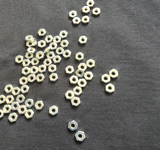nut: (76, 132, 86, 142), (25, 99, 35, 109), (69, 121, 78, 132), (9, 113, 18, 123), (50, 106, 59, 116), (35, 101, 45, 110), (16, 95, 26, 104), (12, 87, 21, 97), (72, 97, 81, 107), (65, 91, 75, 100), (73, 87, 83, 96), (106, 84, 115, 94), (102, 74, 111, 84), (110, 69, 119, 79), (78, 63, 88, 72), (3, 105, 12, 114), (11, 102, 20, 111), (18, 106, 27, 115), (25, 110, 34, 119), (21, 85, 30, 94), (78, 79, 87, 88), (70, 76, 79, 85), (76, 69, 85, 78), (36, 74, 45, 83), (50, 73, 59, 82), (38, 65, 47, 74), (36, 51, 45, 60), (5, 96, 15, 104), (84, 72, 94, 80), (5, 85, 13, 94), (66, 66, 75, 74), (87, 59, 95, 68), (76, 52, 84, 61), (79, 36, 88, 44), (20, 77, 28, 86), (28, 74, 36, 83), (22, 67, 30, 76), (30, 66, 38, 75), (22, 59, 31, 67), (31, 58, 40, 66), (63, 50, 72, 58), (45, 35, 54, 43), (53, 36, 62, 44), (49, 65, 57, 73), (26, 52, 34, 60), (44, 47, 52, 55), (50, 43, 58, 51), (61, 40, 69, 48), (60, 31, 68, 39), (82, 16, 90, 24), (93, 8, 101, 16), (43, 59, 52, 66), (53, 56, 62, 63), (16, 56, 23, 64), (47, 52, 55, 59), (56, 48, 64, 55), (26, 35, 34, 42), (38, 41, 46, 48), (38, 29, 46, 36), (73, 17, 81, 24), (83, 6, 90, 14), (87, 0, 95, 7), (0, 95, 6, 104), (27, 48, 36, 54), (70, 11, 77, 18), (32, 38, 37, 46), (0, 110, 4, 119), (27, 42, 33, 48)
